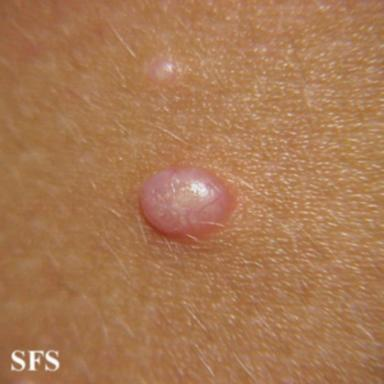Molluscum-Contagiosum: (140, 167, 233, 234), (148, 60, 176, 82)
